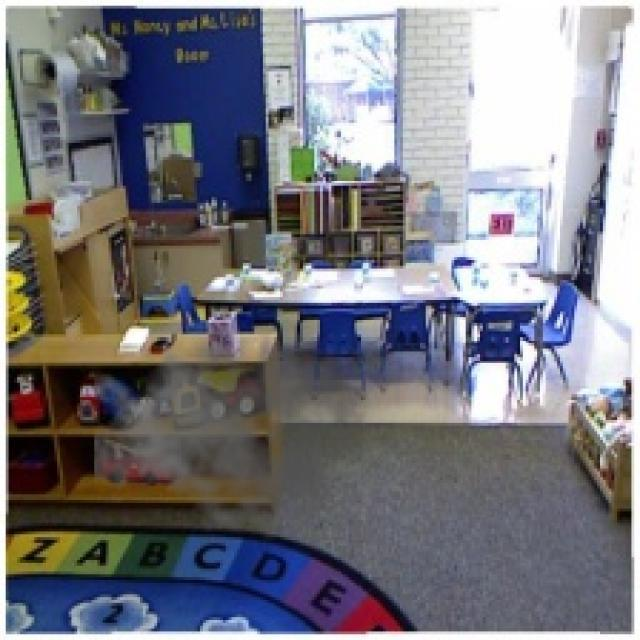Smoke: (95, 308, 372, 543)
